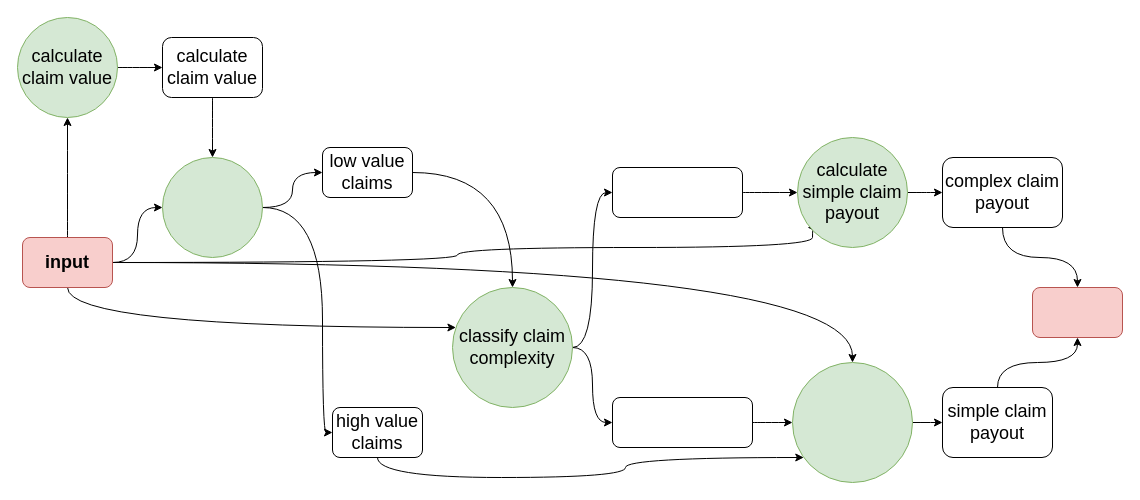
Some shapes in this 1140 by 500 pixel diagram are drawn without their labels. The shapes that lost their labels are listed below. From the top down, each one's box as (x1, y1, x2, y2) in pixels, then its label:
(162, 156, 262, 258): classify claim value
(612, 166, 742, 218): simple claims
(1032, 286, 1122, 338): output
(612, 396, 752, 448): complex claims
(792, 362, 912, 482): calculate complex claim payout
